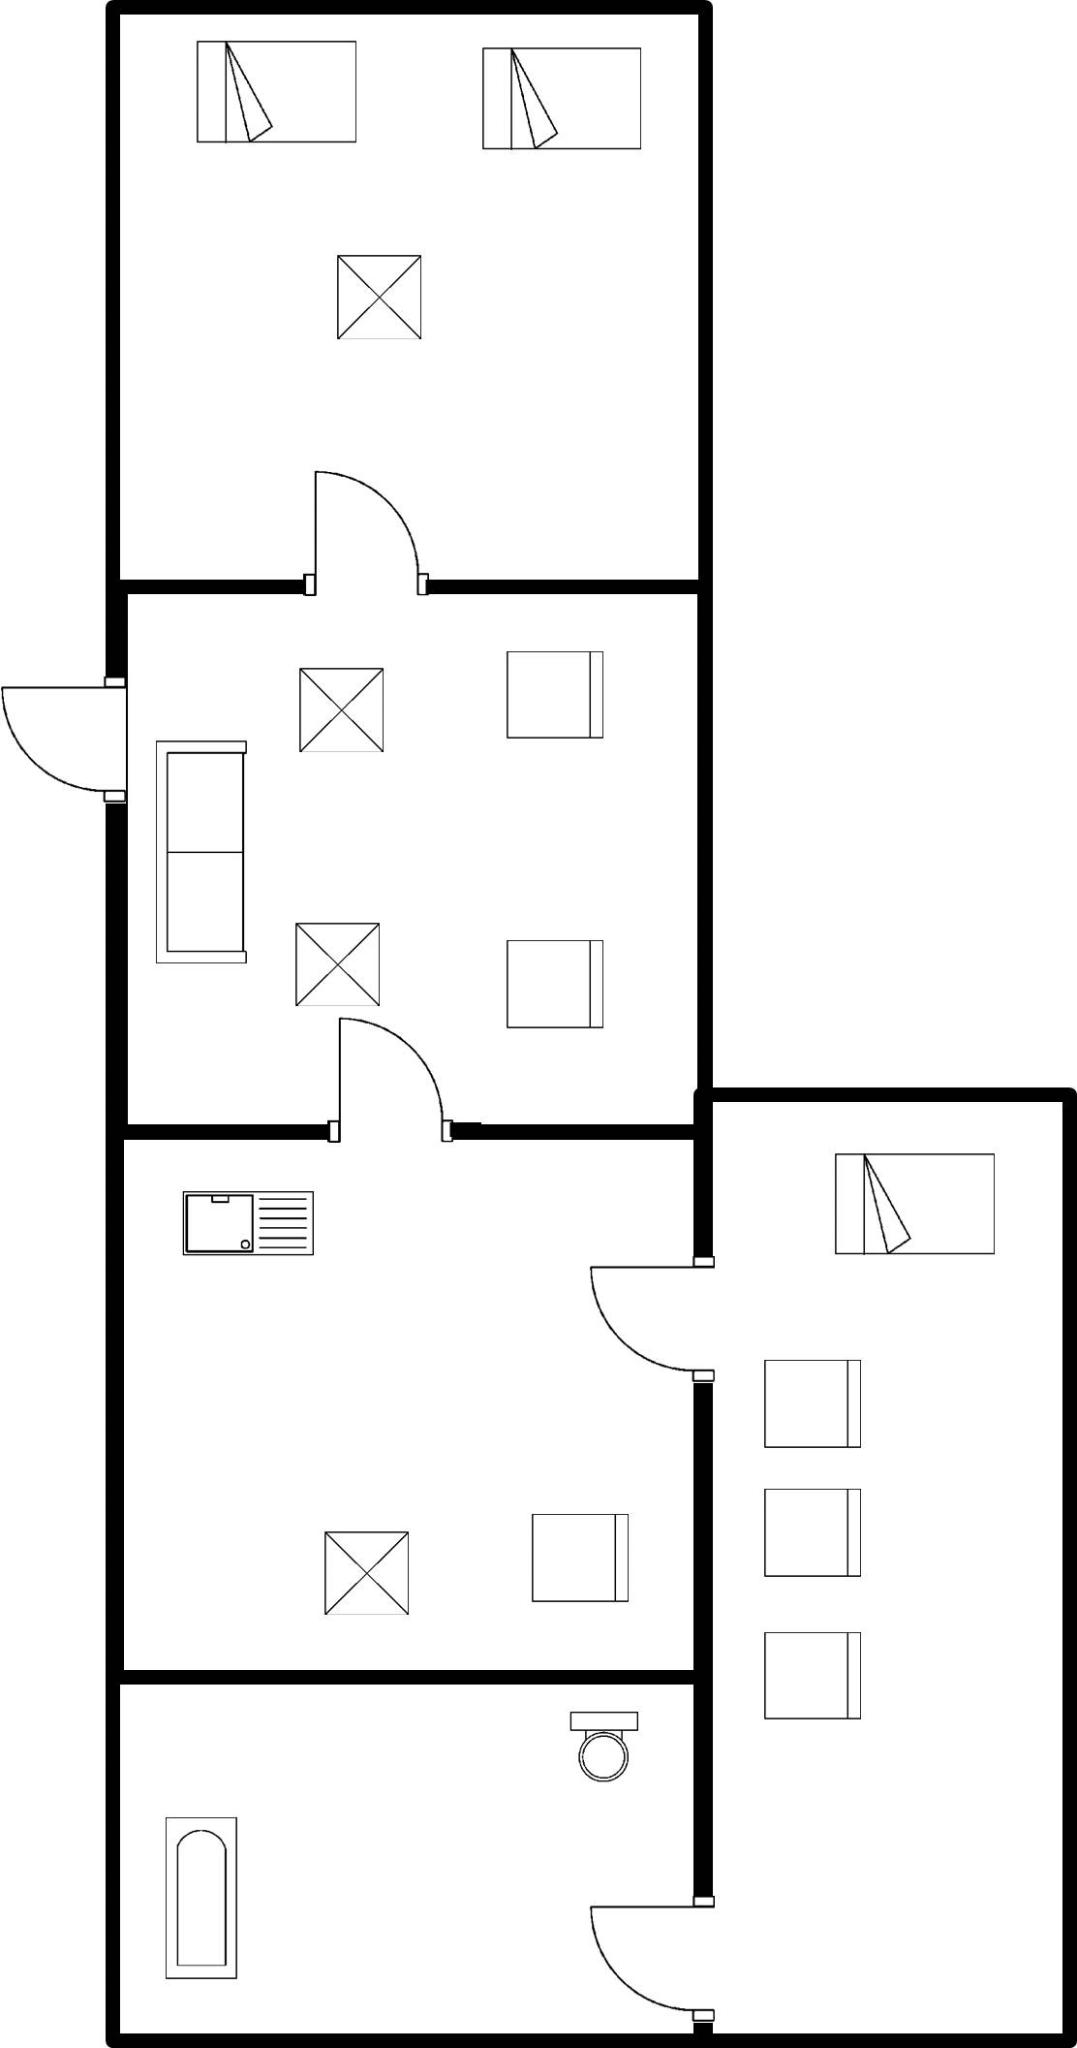bed: (177, 24, 374, 156), (825, 1140, 1007, 1271), (466, 37, 660, 157)
sink: (173, 1181, 321, 1275)
sofa: (141, 725, 264, 978)
toilet: (554, 1694, 654, 1800)
tub: (144, 1806, 252, 1990)
